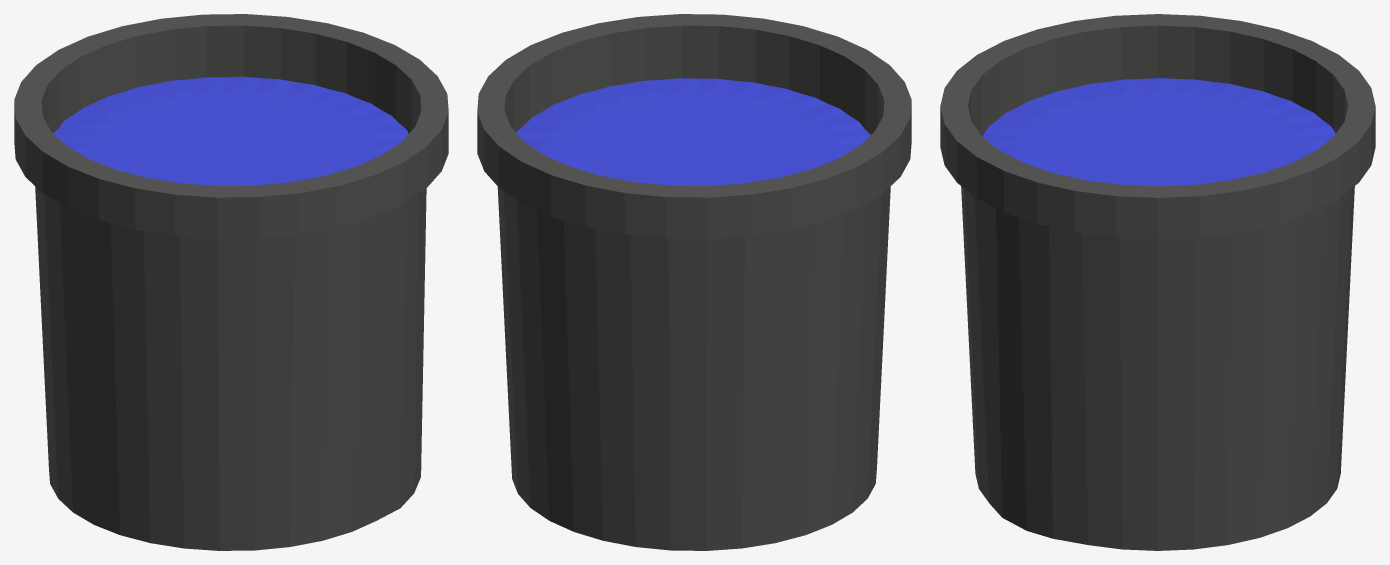
Rendered from bucket with water.fbx.
3 views of the same model, side by side, from view 1: azimuth 30°, elevation 25°; view 2: azimuth 150°, elevation 25°; view 3: azimuth 270°, elevation 25° (orthographic).
Visible parts, largest first — view 1: Cylinder, Cylinder.001; view 2: Cylinder, Cylinder.001; view 3: Cylinder, Cylinder.001.
Boxes of the visible parts, x1,y1,x2,y2 form: Cylinder: (14, 14, 448, 550); Cylinder.001: (53, 76, 408, 185); Cylinder: (477, 14, 911, 550); Cylinder.001: (516, 78, 870, 185); Cylinder: (940, 14, 1375, 550); Cylinder.001: (982, 78, 1335, 186).
Size of the model in its own units: 219 by 215 by 219.
